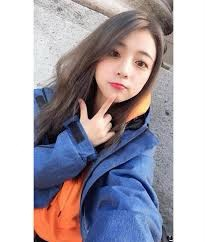people: (52, 11, 162, 242)
